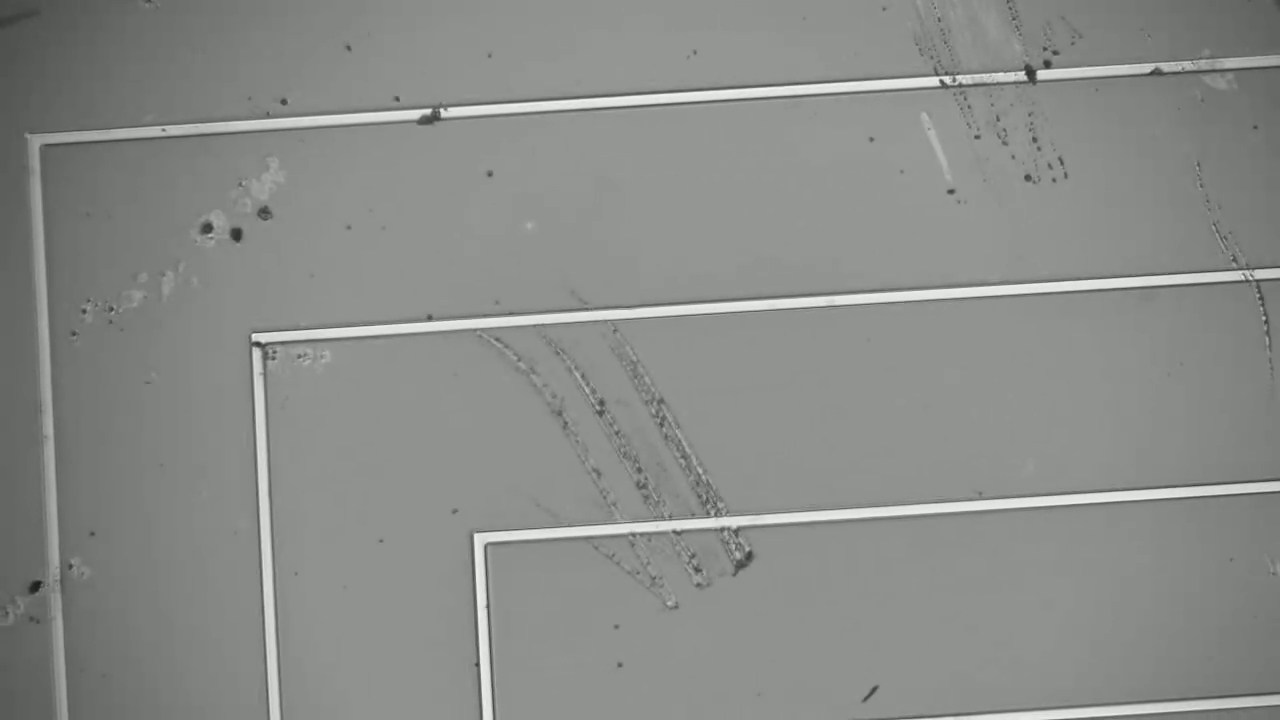scratch: (476, 285, 767, 604), (1183, 155, 1280, 379)
stains_enbedded: (412, 97, 454, 134), (1018, 55, 1042, 92)
